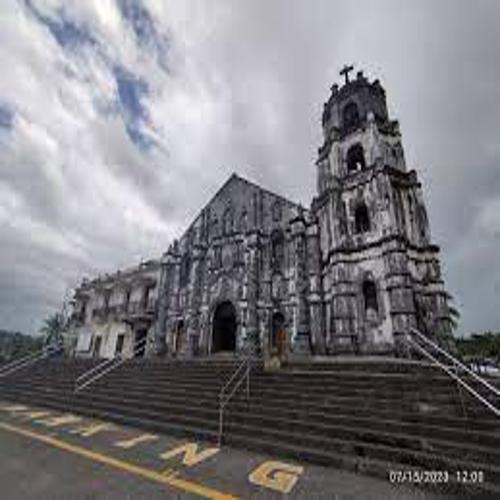Daraga Church: (157, 58, 456, 374)
